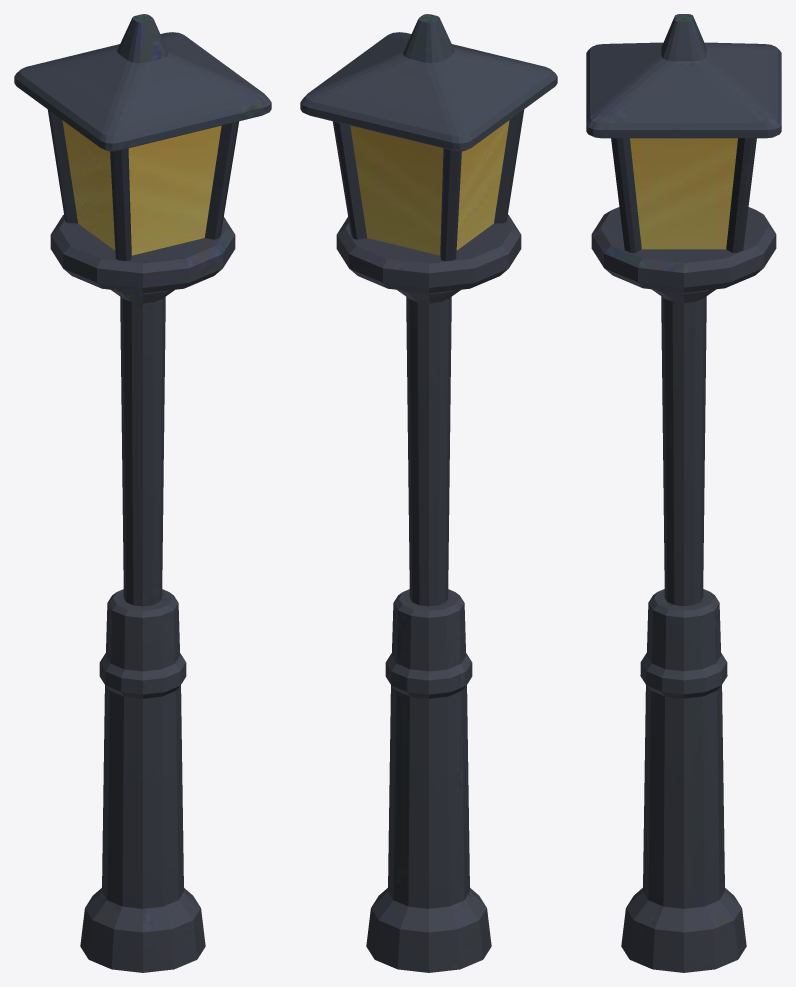
Rendered from street_lamp.glb.
3 renders of one model, left to right at view 1: azimuth 30°, elevation 25°; view 2: azimuth 150°, elevation 25°; view 3: azimuth 270°, elevation 25°, orthographic.
Parts seen in each view (by area): view 1: street_lamp; view 2: street_lamp; view 3: street_lamp.
Boxes of the visible parts, x1=… form: street_lamp: x1=14, y1=14, x2=271, y2=972; street_lamp: x1=300, y1=14, x2=557, y2=972; street_lamp: x1=586, y1=14, x2=781, y2=972.
Size of the model in its own units: 0.5748 by 3.01 by 0.5748.
Materials: 1 (1 with a texture image).
